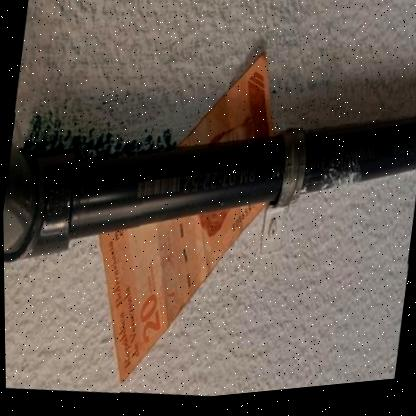twenty-front-vef: (74, 35, 294, 404)
